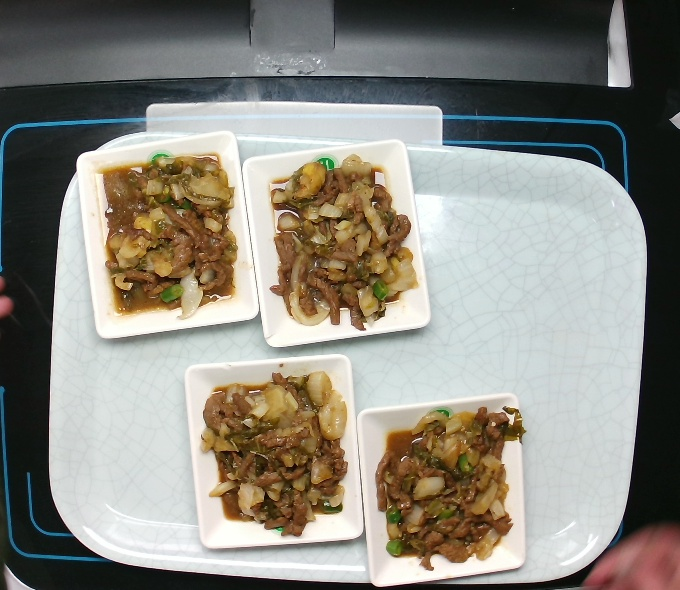wcq-PaoCaiNiuRou: (85, 158, 240, 322), (201, 367, 351, 535), (263, 161, 410, 328), (372, 406, 523, 566)
